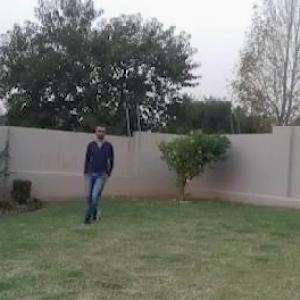follow: (80, 123, 113, 228)
